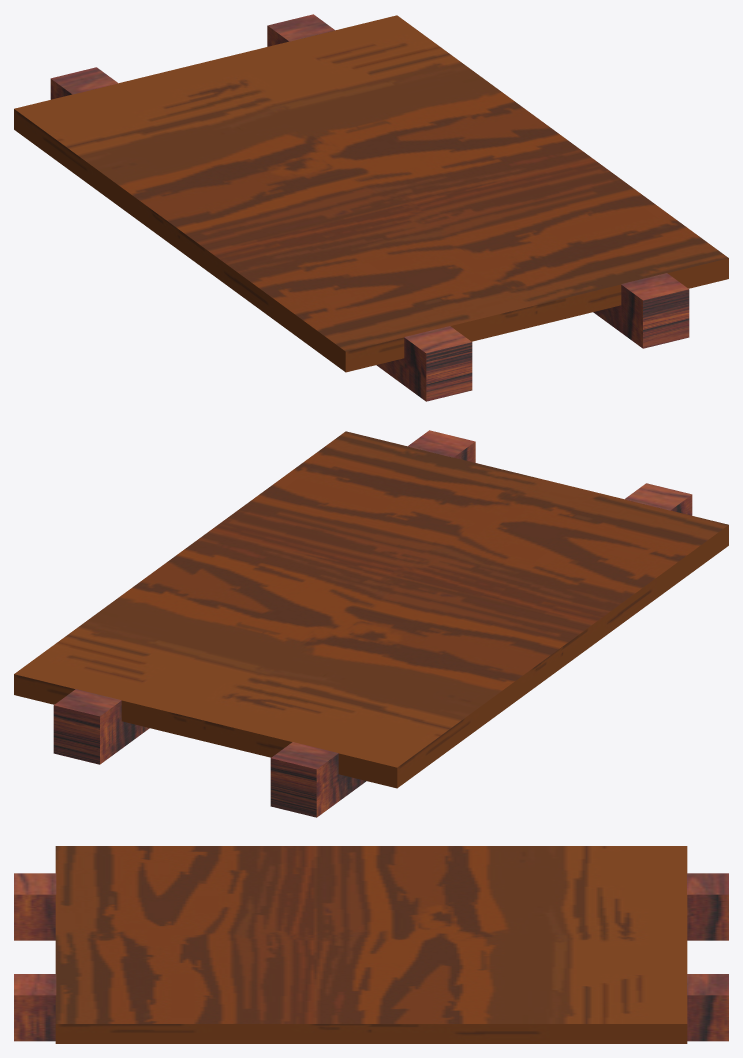
The model's file is sakou_2.FBX.
3 renders of one model, top to bottom at view 1: azimuth 30°, elevation 25°; view 2: azimuth 150°, elevation 25°; view 3: azimuth 270°, elevation 25°, orthographic. The views are drawn at different scales.
Visible parts, largest first — view 1: Box001; view 2: Box001; view 3: Box001.
Part boxes in pixels (left/top/right/bottom): Box001: left=14, top=14, right=728, bottom=401; Box001: left=14, top=430, right=728, bottom=817; Box001: left=14, top=846, right=728, bottom=1043.
Bounding box in the file's own units: 0.5621 × 0.0677 × 0.9545.
